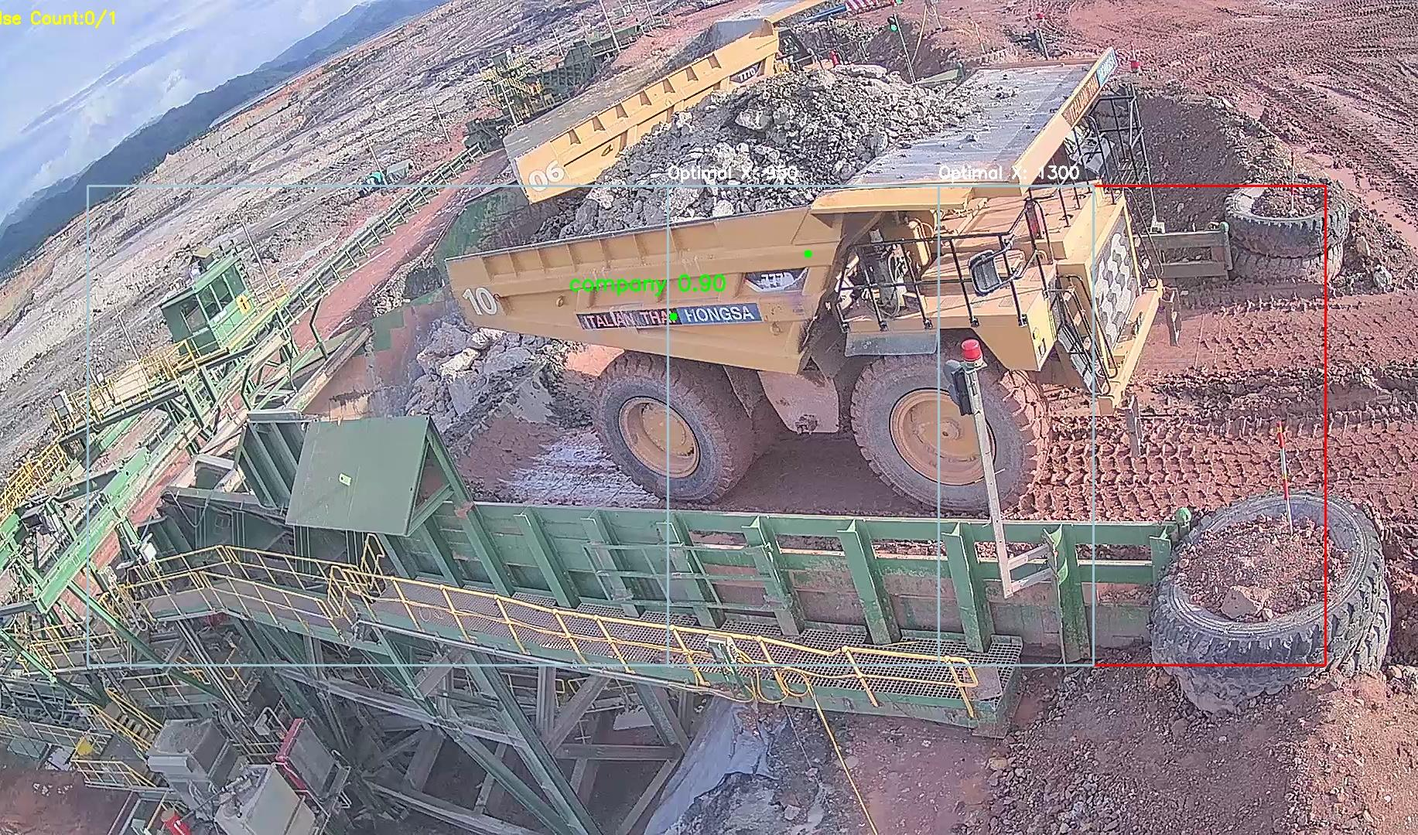company: (566, 295, 778, 334)
full_load: (578, 89, 923, 235)
mining_truck: (431, 39, 1184, 509)
tail_number: (454, 276, 508, 329)
truck_size: (742, 267, 811, 294)
